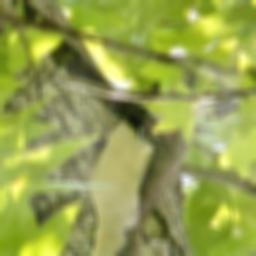Cuckoo: (64, 71, 241, 256)
